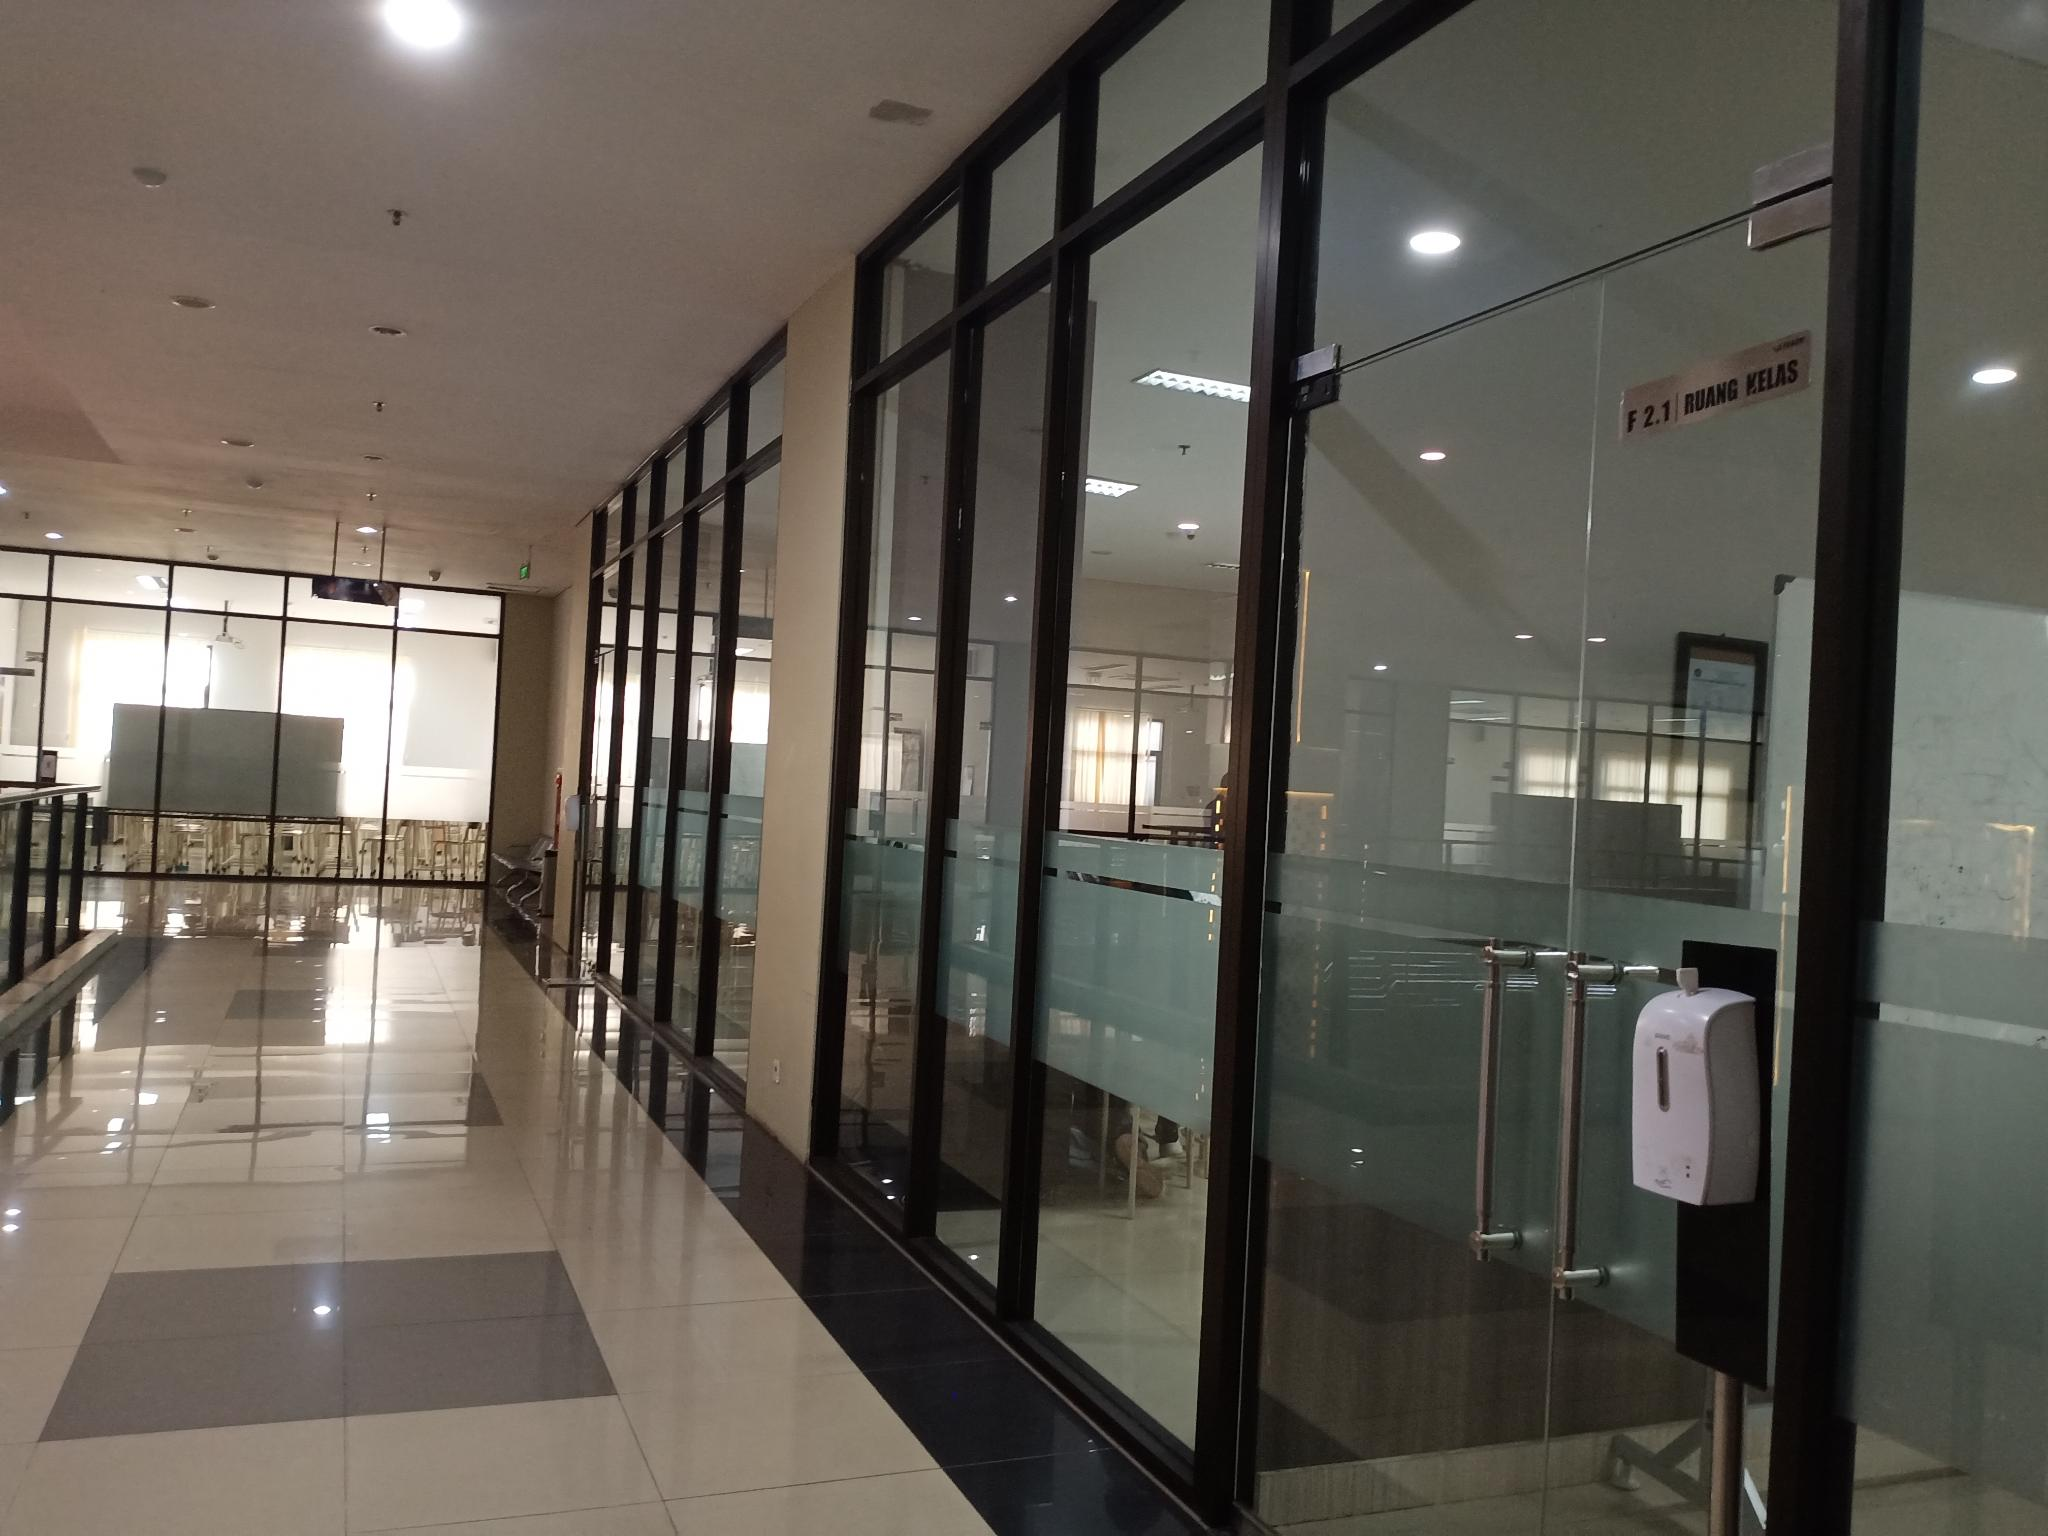plate: (1619, 329, 1813, 442)
